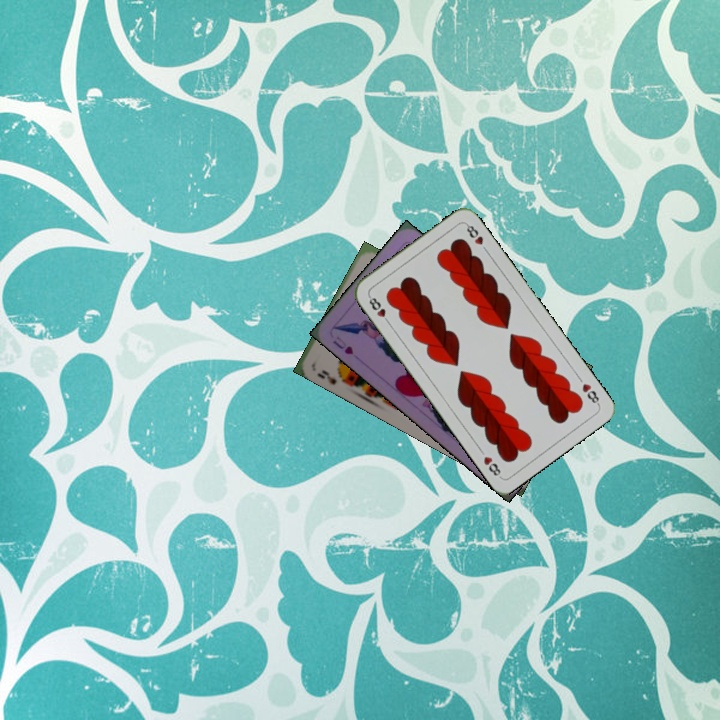H8: (365, 292, 393, 327), (578, 379, 602, 408)
HU: (328, 332, 356, 357)
S9: (313, 366, 349, 387)
